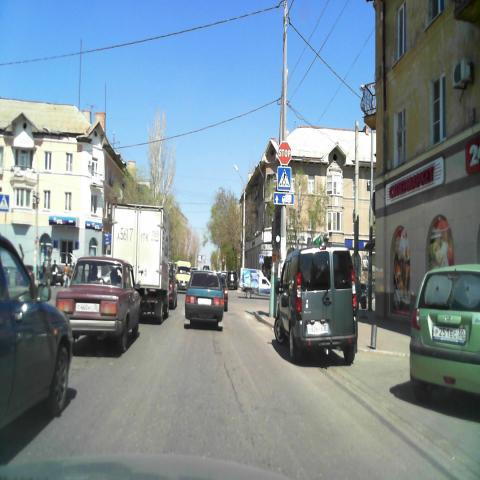6_15_1: (274, 192, 294, 204)
